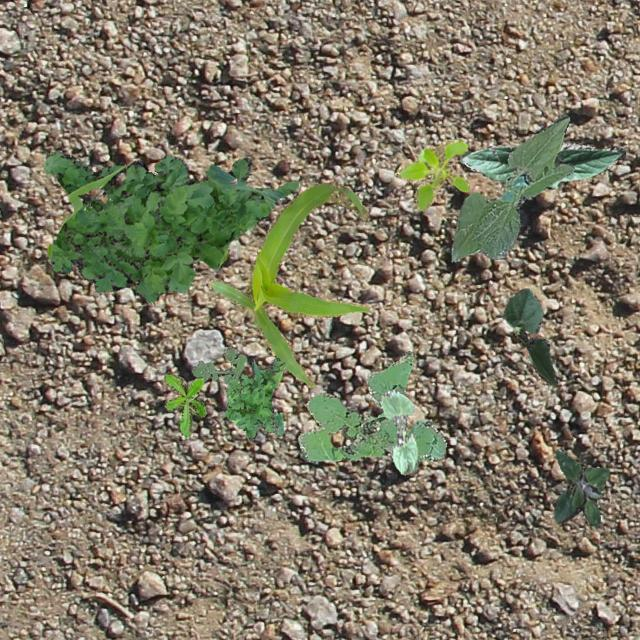crop: (208, 180, 370, 387), (450, 114, 572, 260), (458, 142, 624, 188), (502, 288, 556, 384), (379, 388, 416, 474)
weed: (41, 150, 298, 304), (296, 350, 446, 460), (394, 138, 468, 210), (224, 356, 286, 439), (552, 450, 608, 526), (162, 372, 205, 436), (190, 347, 246, 382)
